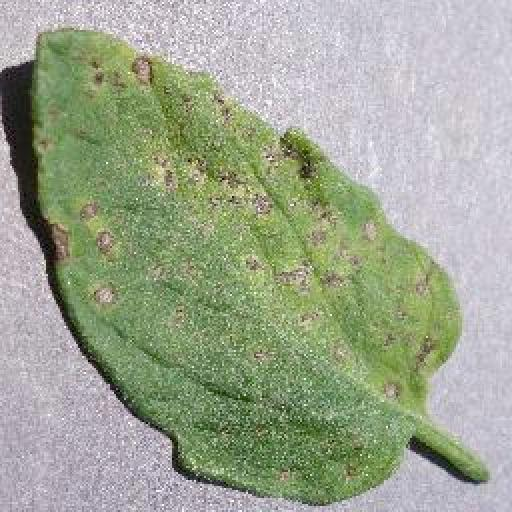disease_tomato: (36, 25, 466, 507)
